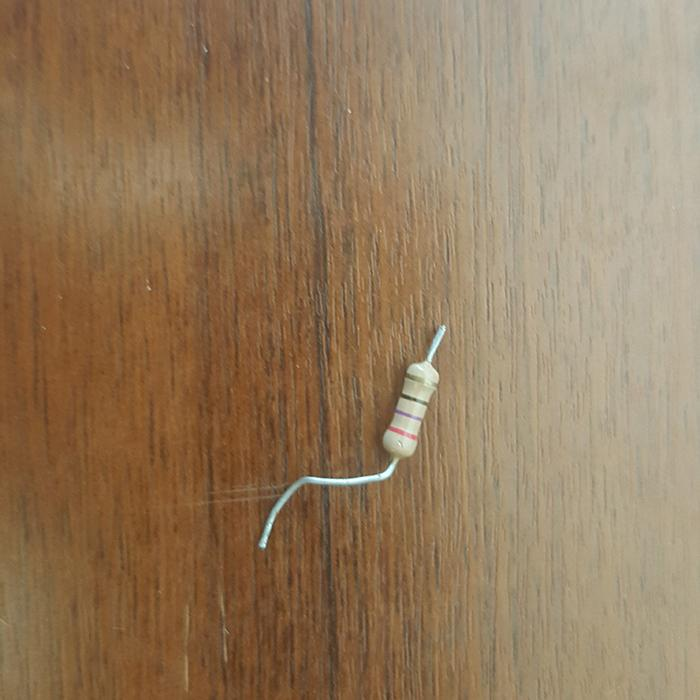resistor: (383, 360, 440, 458)
